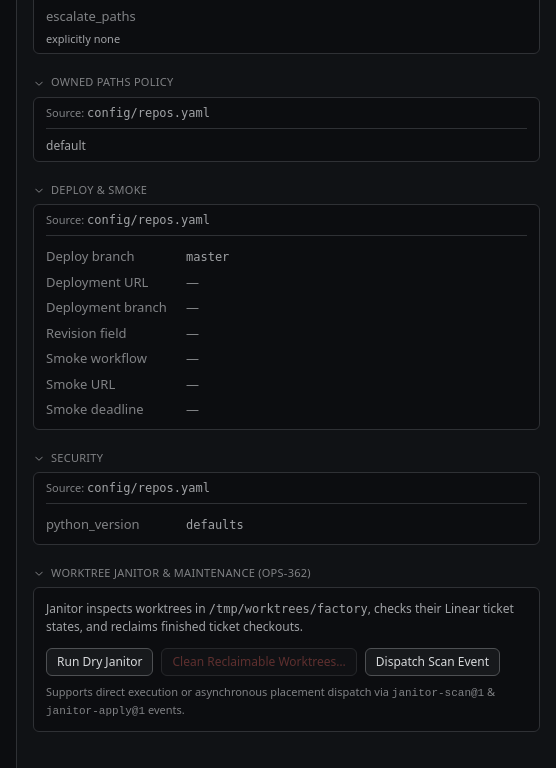
Scenario: Projects Clean Reclaimable Apply (WM-157) › normalizes a partial janitor result before rendering counts (WM-266)
The width and height of the screenshot is (556, 768).
(page scrolled)
Click the button "Run Dry Janitor".
click(100, 662)  # box [46,648,154,676]
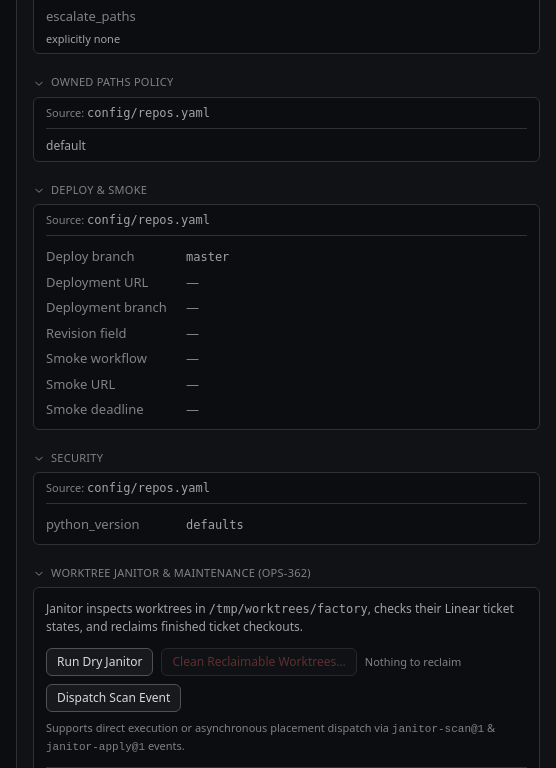
Expected: the text "Nothing to reclaim" is shown, [365,654,461,670]
